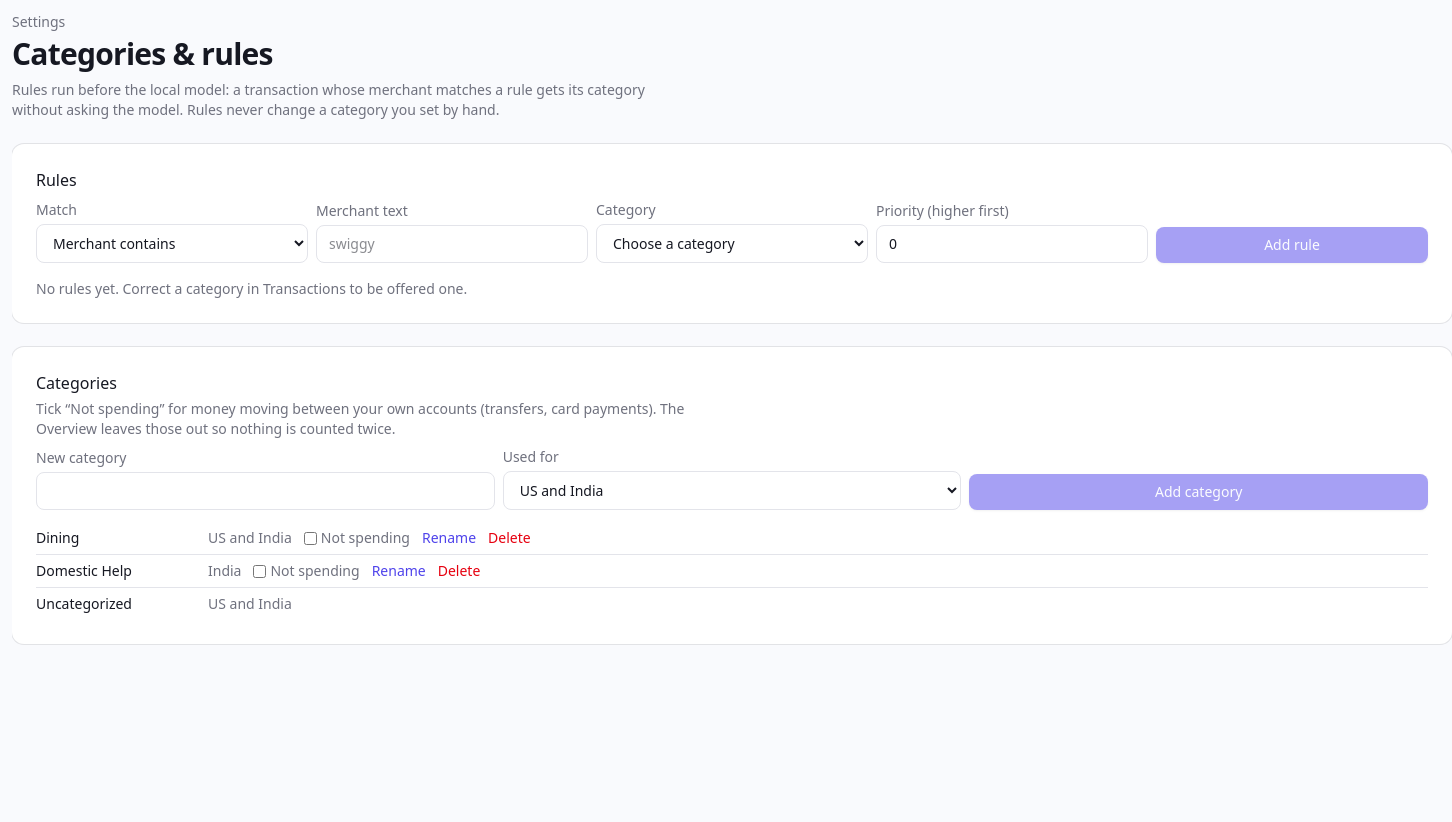
Test case: a category is renamed
This screenshot has width=1452, height=822.
Click the button with aria-label "Rename Dining" at (449, 538), box [422,528,476,548]
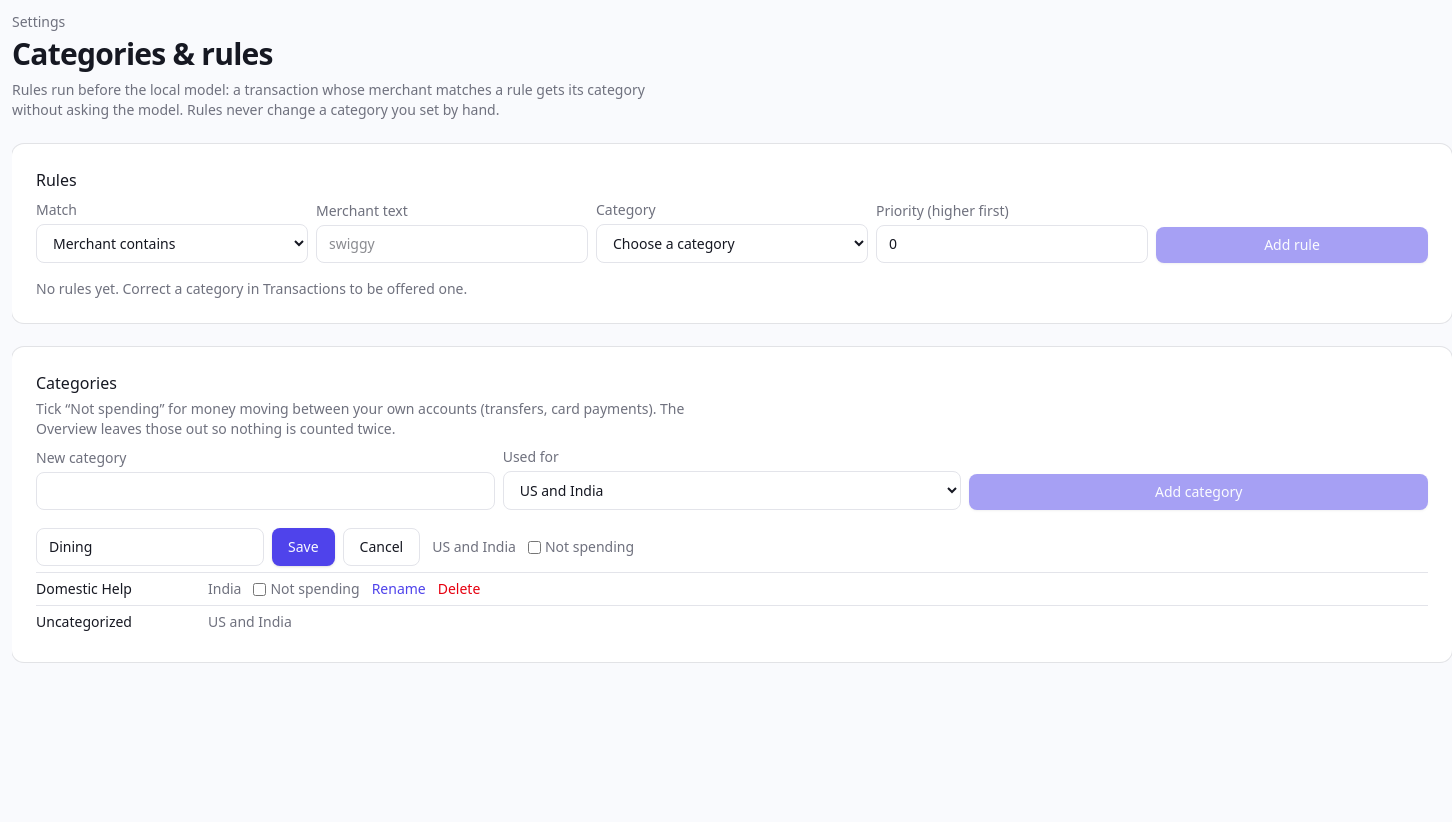
Replace the text in the field named "New name for Dining" with "Eating Out" at (150, 547), box [36,528,264,566]
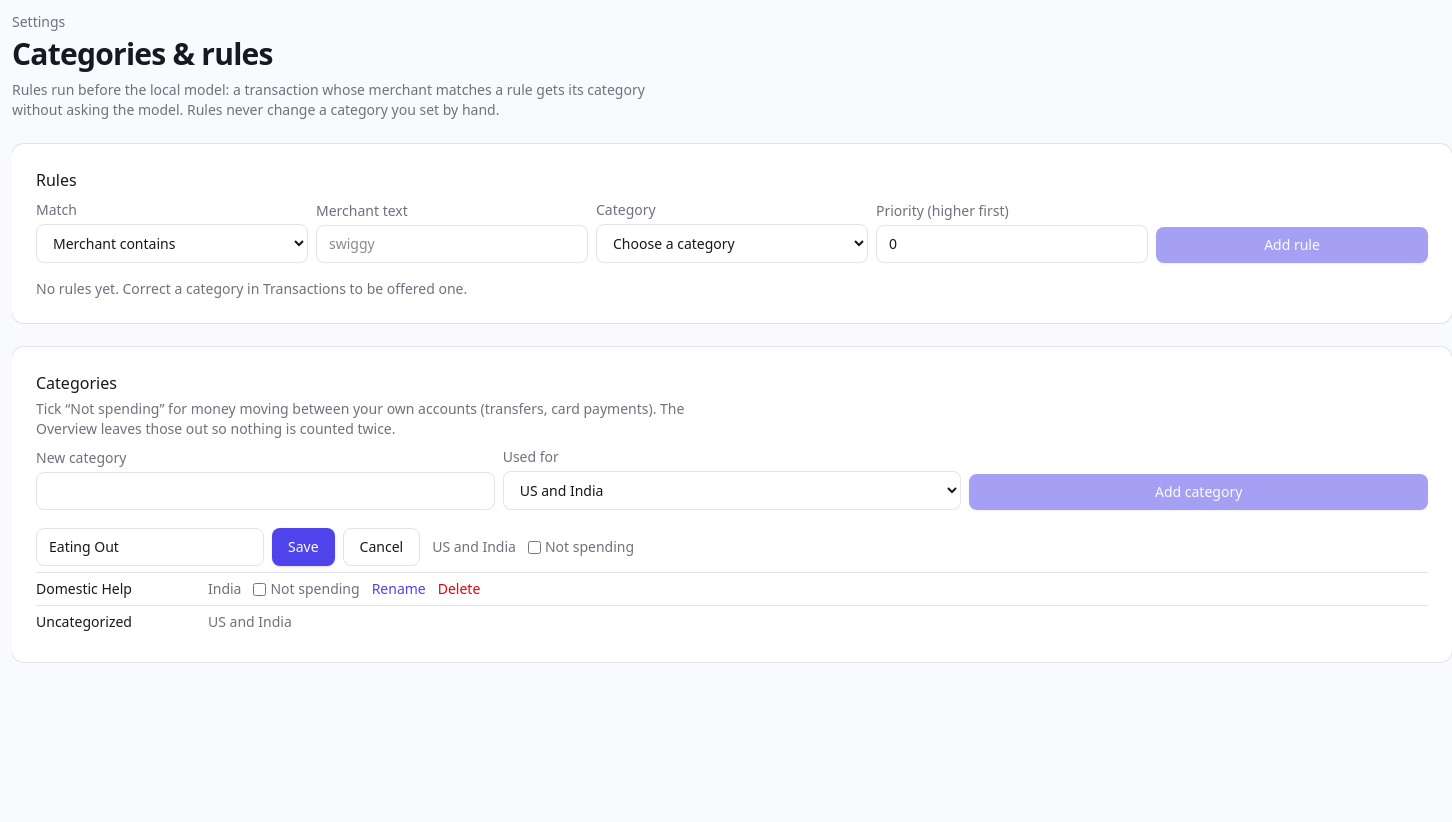
Click the button "Save" at (303, 547), box [272,528,335,566]
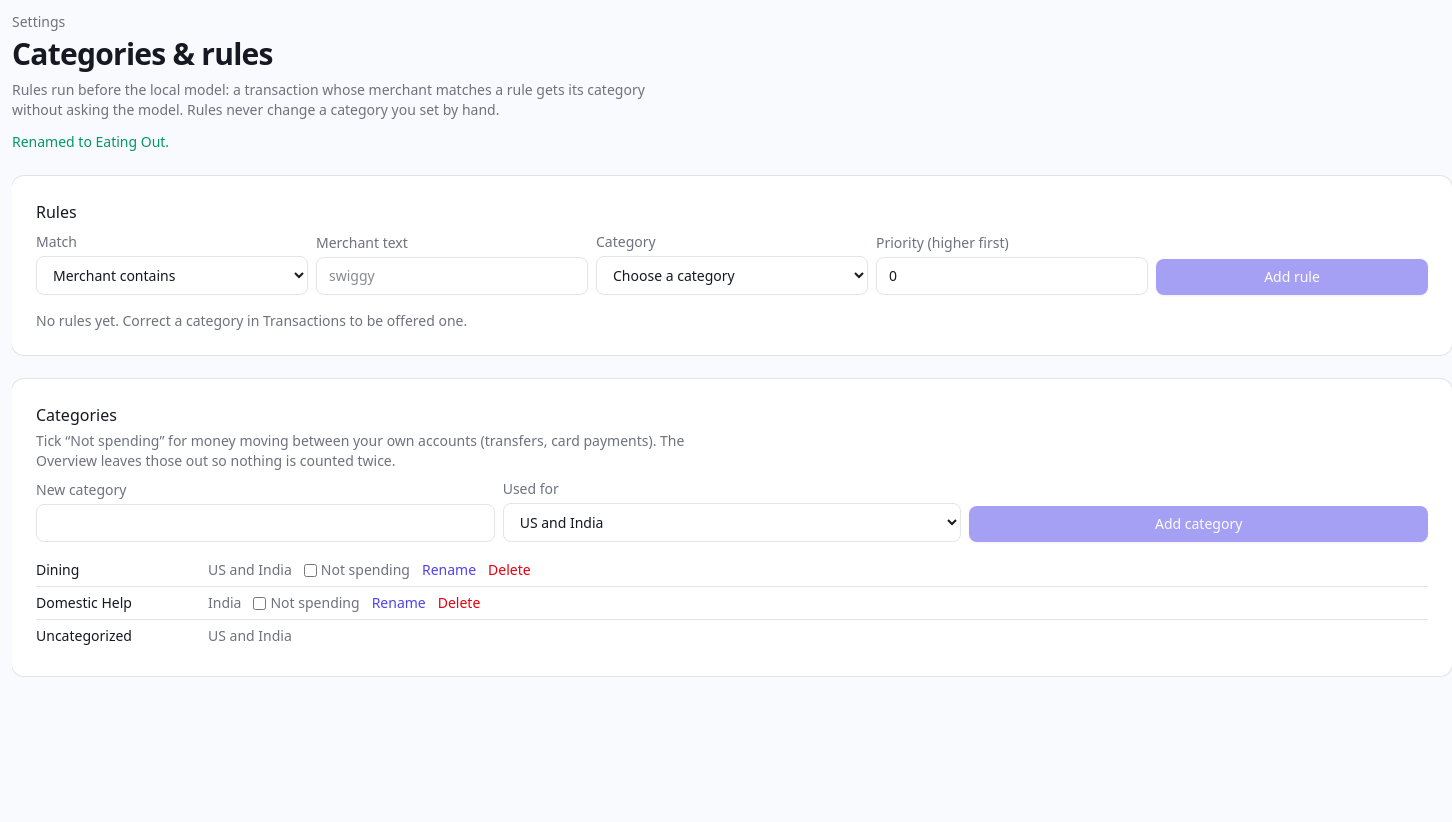
Now the text "Renamed to Eating Out." is shown, box [12,132,169,151]
